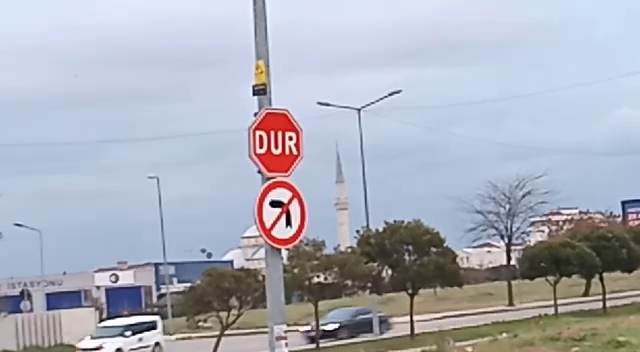no_left: (253, 177, 310, 252)
stop: (246, 106, 307, 180)
